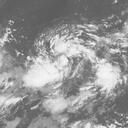cyclone: (22, 24, 123, 96)
